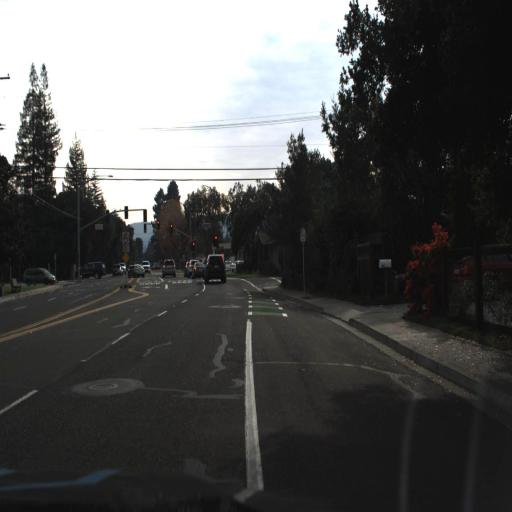car: (202, 251, 227, 288), (24, 263, 57, 288), (77, 259, 103, 281), (161, 257, 176, 278), (127, 263, 145, 278)
trafficLight-Red: (213, 232, 219, 248), (190, 237, 196, 253), (155, 217, 161, 233), (169, 221, 173, 236)
